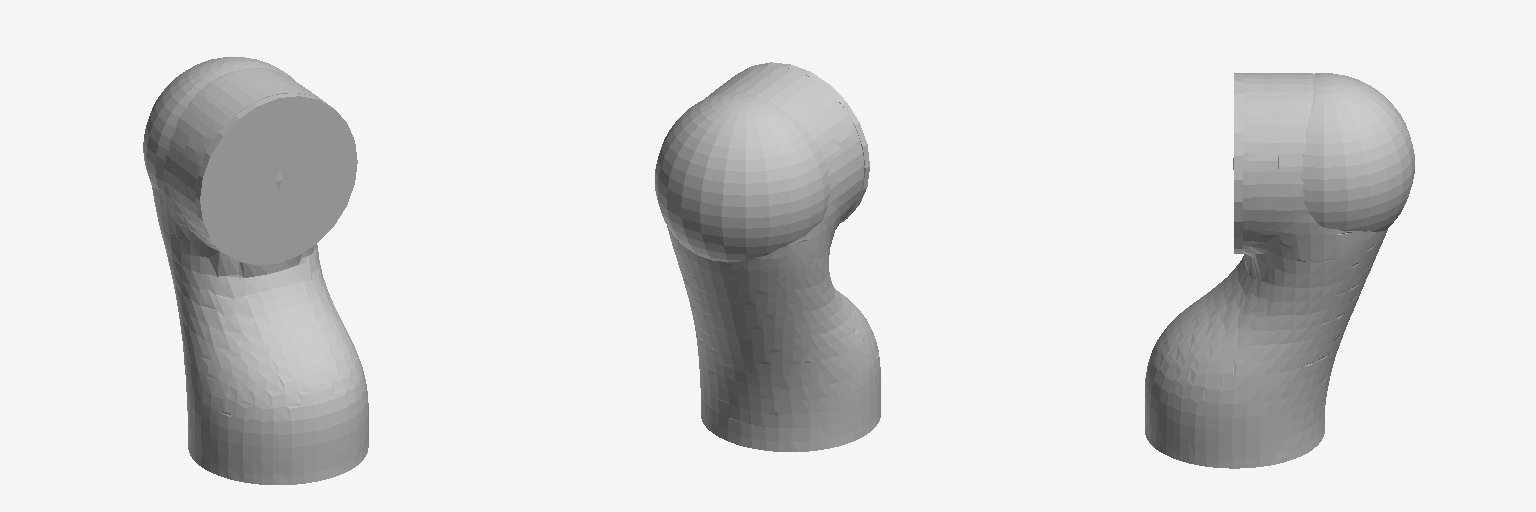
Rendered from lbr3_j1.obj.
The picture shows the model from 3 angles: view 1: azimuth 30°, elevation 25°; view 2: azimuth 150°, elevation 25°; view 3: azimuth 270°, elevation 25°; orthographic projection.
Visible parts, largest first — view 1: Entity_link__1, Default_2_link__1, Default_1_link__1; view 2: Entity_link__1, Default_1_link__1, Default_2_link__1; view 3: Entity_link__1, Default_1_link__1, Default_2_link__1.
Part boxes in pixels (x1,y1,x2,y2): Entity_link__1: (152,67,368,484); Default_2_link__1: (195,93,357,265); Default_1_link__1: (143,57,294,189); Entity_link__1: (667,66,880,451); Default_1_link__1: (655,92,829,262); Default_2_link__1: (732,62,869,222); Entity_link__1: (1145,73,1387,468); Default_1_link__1: (1233,73,1414,232); Default_2_link__1: (1234,73,1242,253).
Bounding box in the file's own units: 0.0827 × 0.1745 × 0.1224.